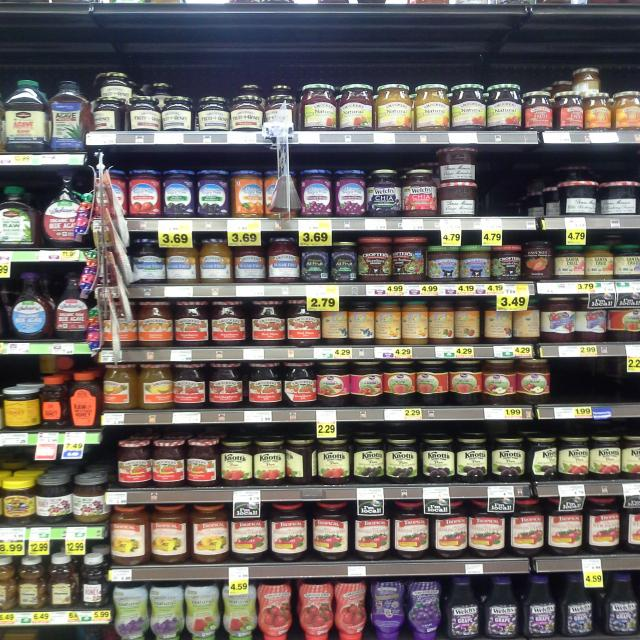empty: (544, 349, 619, 405), (473, 157, 534, 216)
